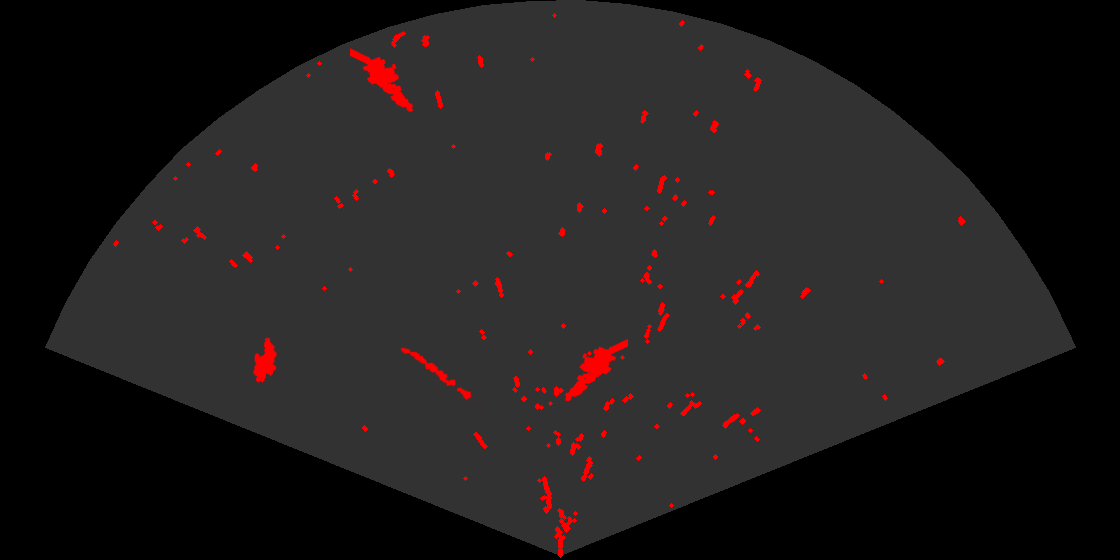AUV: (252, 337, 278, 384)
chain: (399, 346, 483, 407)
frogman: (350, 47, 415, 114), (563, 338, 628, 403)
